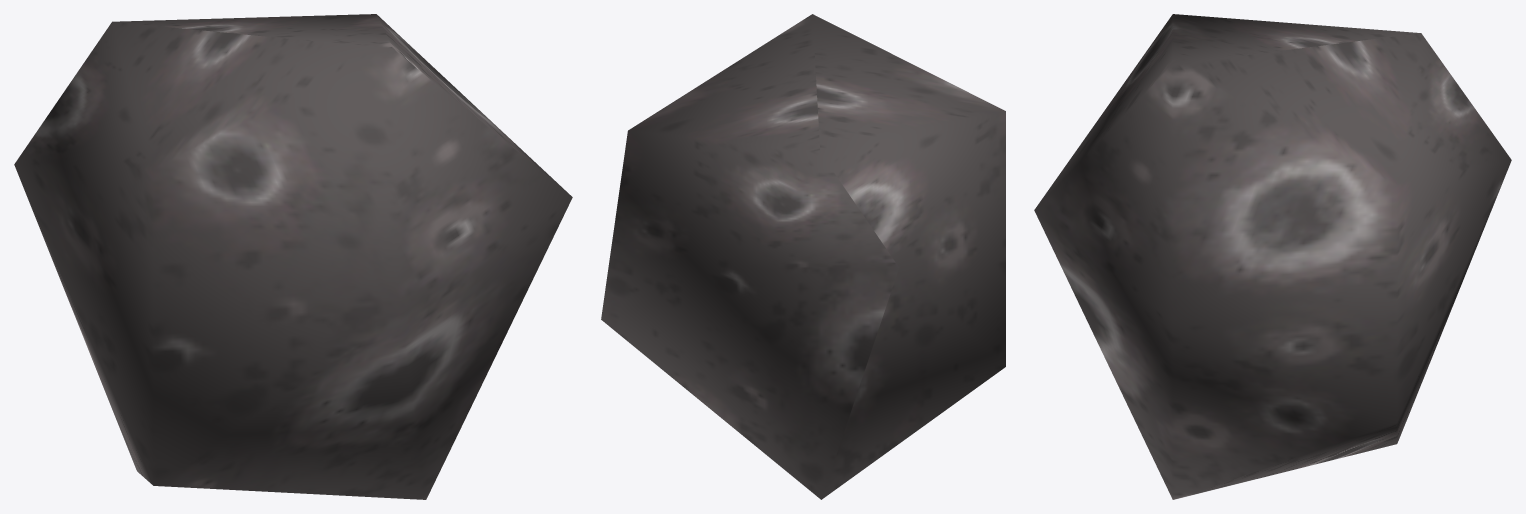
File: asteroid_02.fbx
The picture shows the model from 3 angles, left to right: view 1: azimuth 30°, elevation 25°; view 2: azimuth 150°, elevation 25°; view 3: azimuth 270°, elevation 25°; orthographic projection. The views are drawn at different scales.
Parts seen in each view (by area): view 1: asteroid_02; view 2: asteroid_02; view 3: asteroid_02.
Boxes of the visible parts, x1,y1,x2,y2 form: asteroid_02: (14,14,572,499); asteroid_02: (601,14,1005,499); asteroid_02: (1034,14,1511,499).
Bounding box in the file's own units: 3231 × 3500 × 3449.
